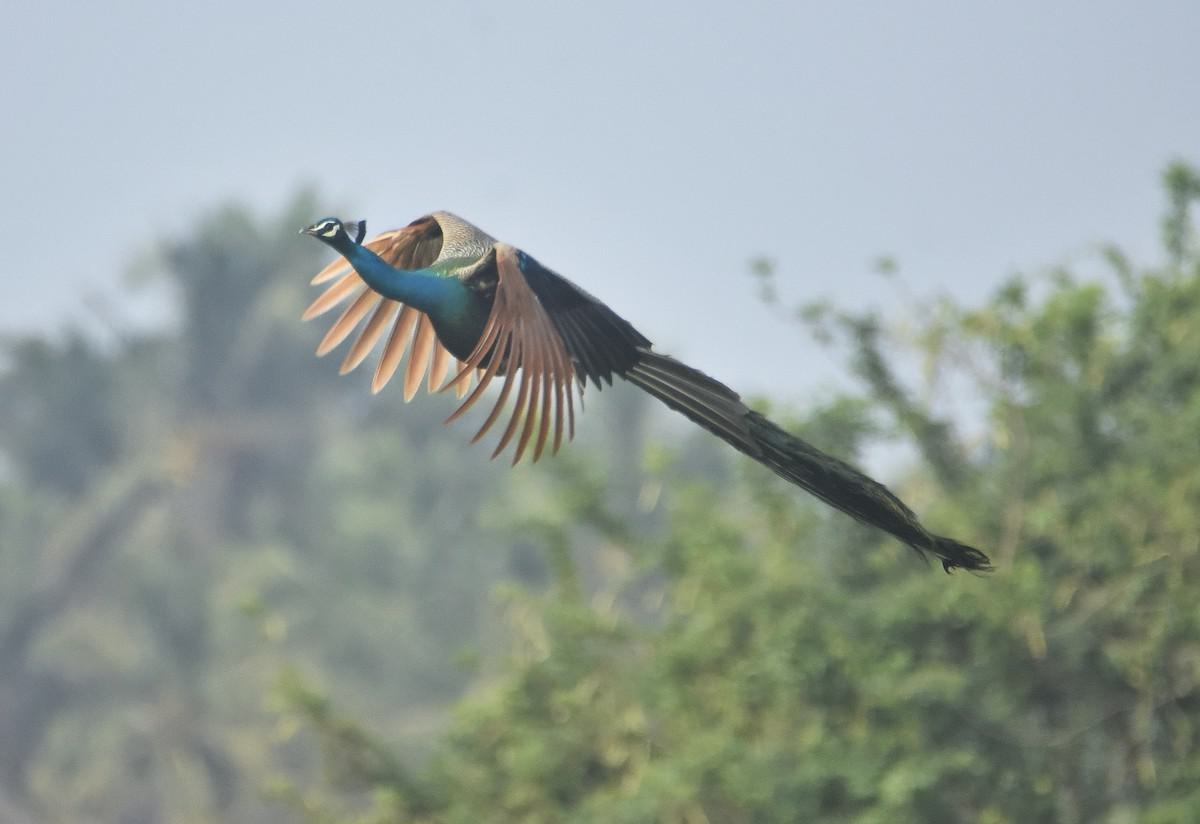peacock: (290, 155, 1020, 604)
